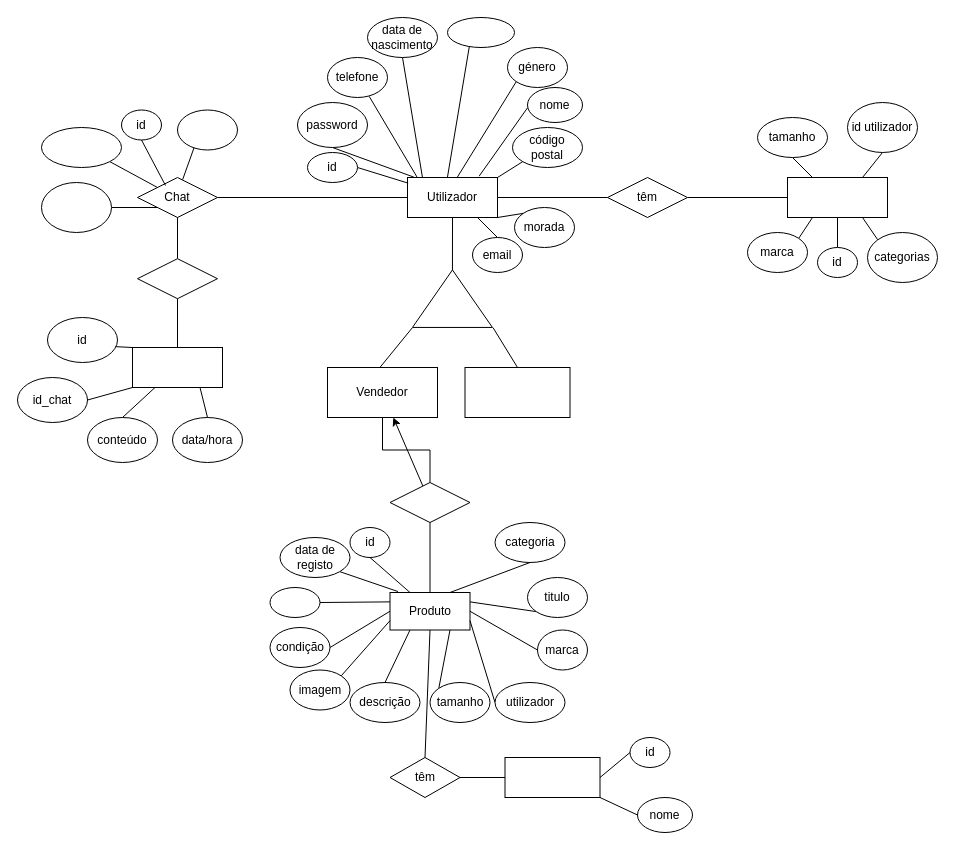
Image size: 955x850. Some labels were removed from this diagram. Each missing label, with the box of its shape:
Comprador: (464, 366, 570, 418)
contém: (136, 258, 218, 299)
id comprador: (40, 182, 112, 232)
id vendedor: (176, 109, 238, 150)
localidade: (446, 16, 514, 48)
mensagem: (40, 126, 122, 168)
Mensagens: (132, 346, 222, 388)
Preferências: (786, 176, 888, 218)
preço: (269, 586, 320, 618)
Tipo: (504, 756, 600, 798)
vende: (389, 482, 470, 522)
